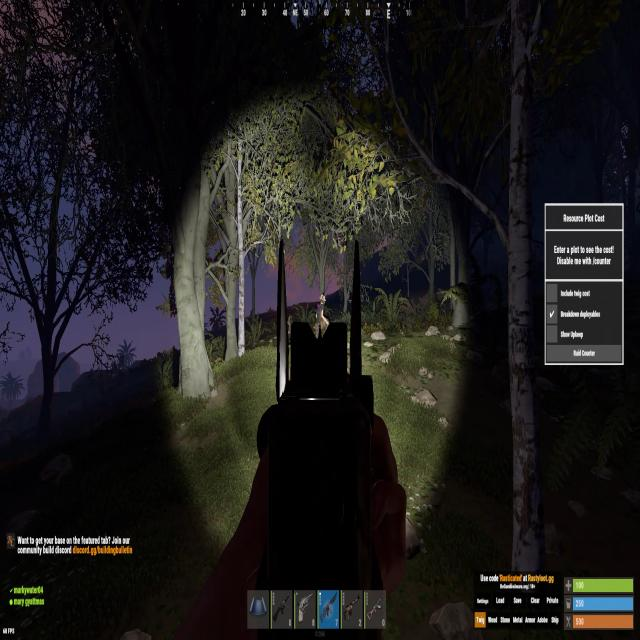Player: (315, 294, 329, 326)
